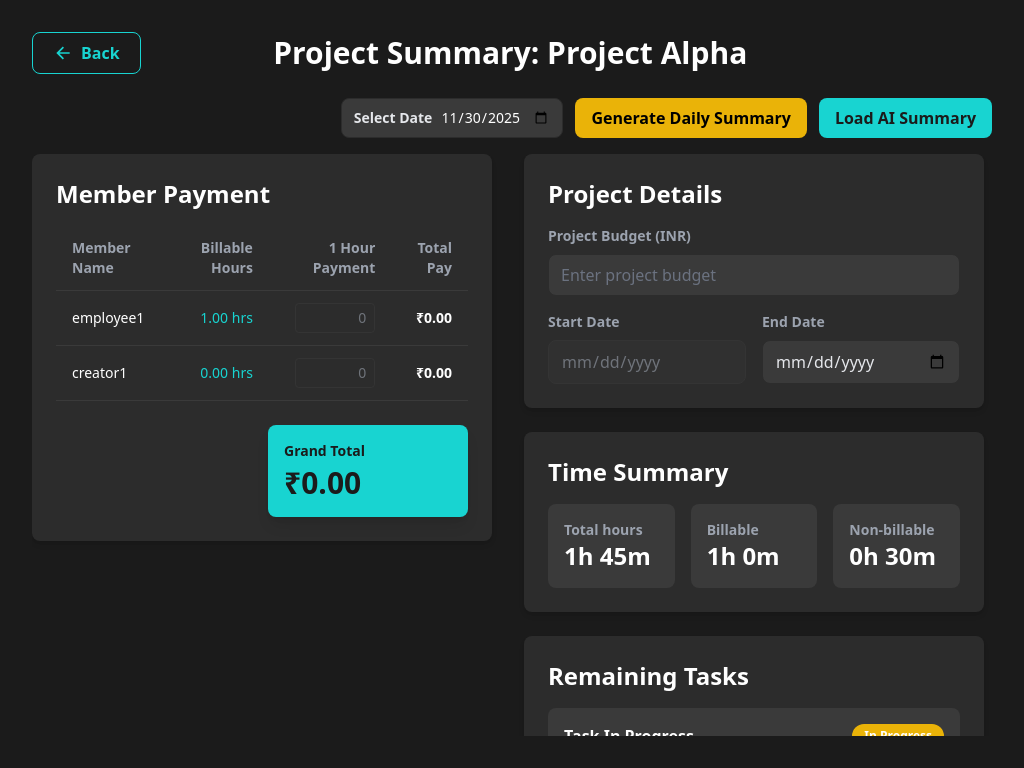
Test: ProjectSummaryPage Component › updates project budget and calculates remaining budget
Check: the text "Project Budget (INR)" is shown, box [548, 226, 691, 245]
Clear existing value and update budget
Type "10000" into the number field with placeholder "Enter project budget" at {"x": 754, "y": 275}, box [548, 254, 960, 296]
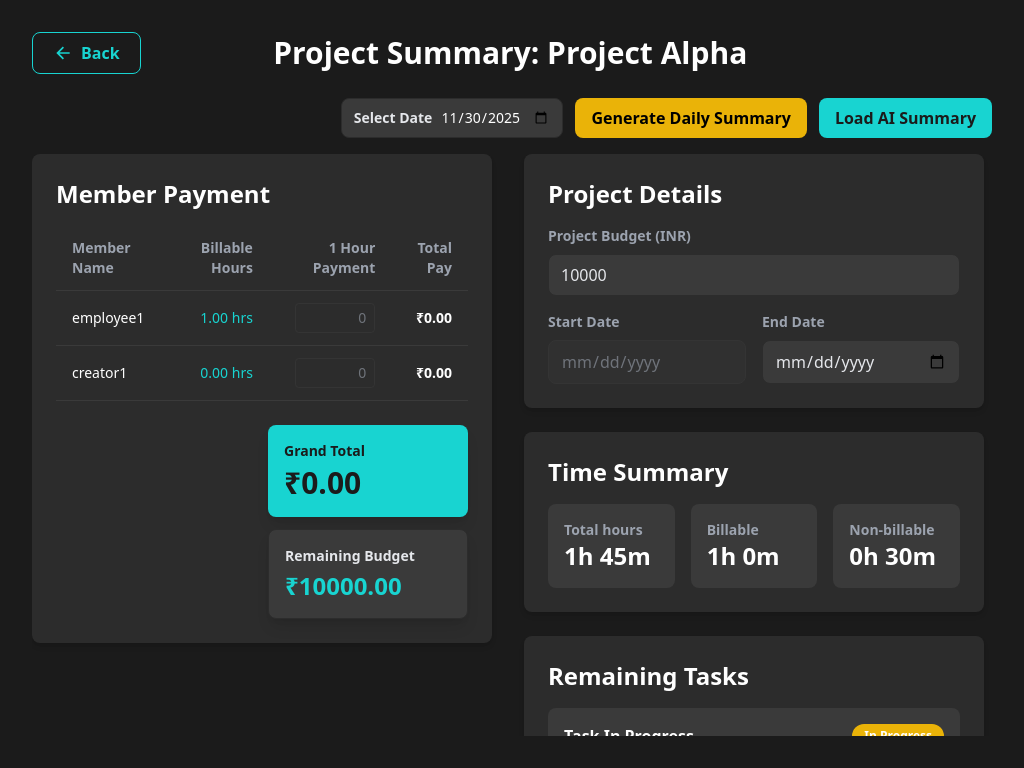
Check: the text "Remaining Budget" is shown, box [285, 546, 415, 565]
